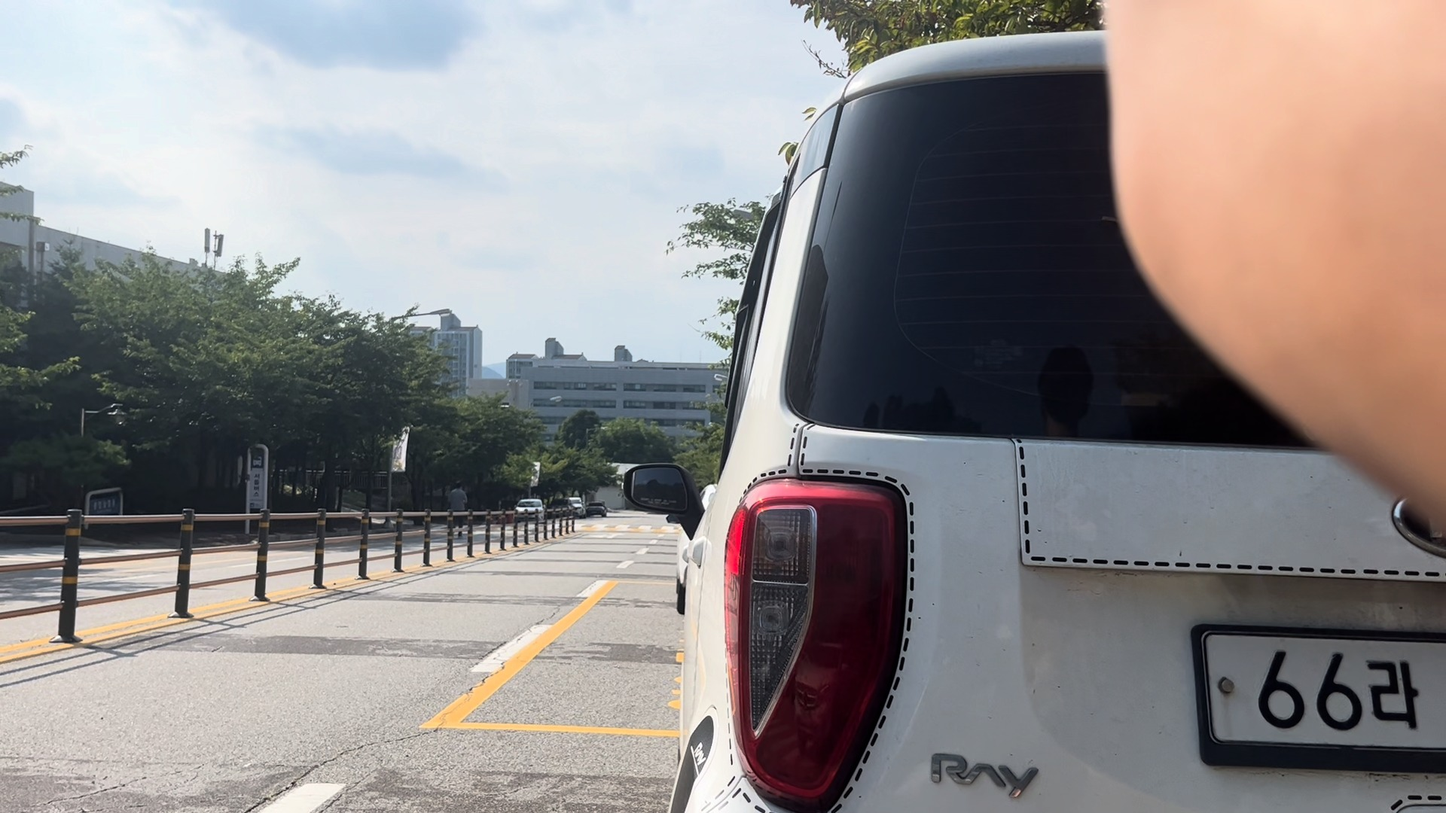license_plate: (1192, 625, 1445, 772)
side_mirror: (623, 464, 703, 537)
tail_light: (725, 481, 906, 810)
